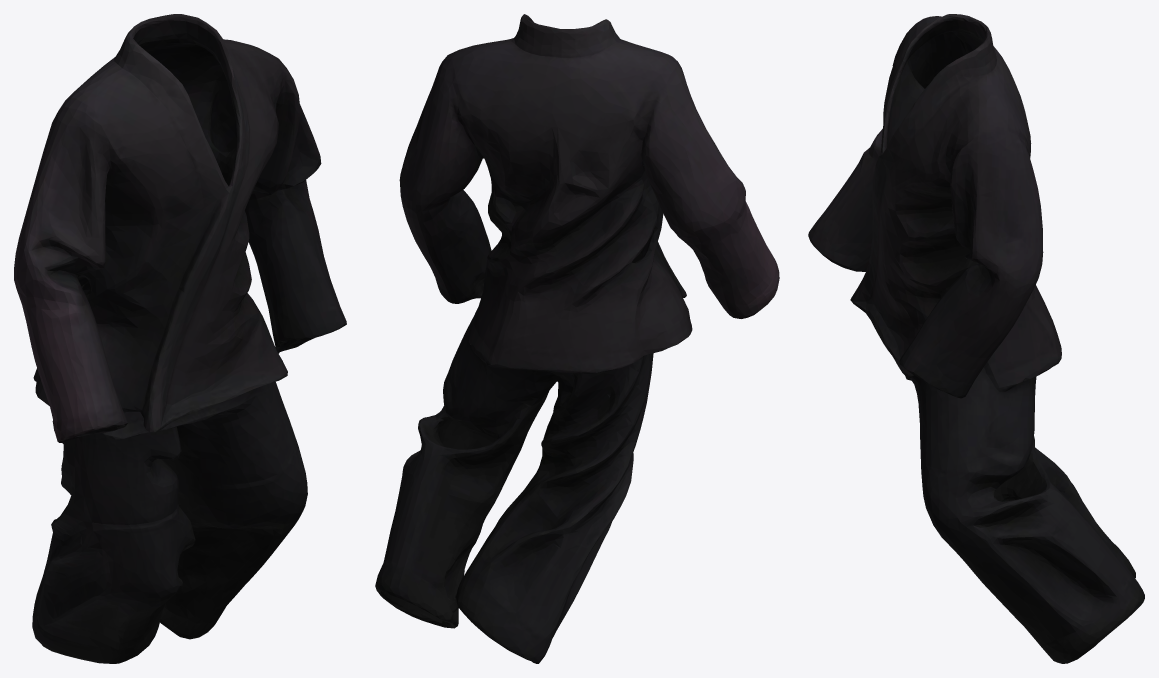
Rendered from bjj-gi.glb.
3 views of the same model, side by side, from view 1: azimuth 30°, elevation 25°; view 2: azimuth 150°, elevation 25°; view 3: azimuth 270°, elevation 25° (orthographic). The views are drawn at different scales.
Parts seen in each view (by area): view 1: geometry_0; view 2: geometry_0; view 3: geometry_0.
Part boxes in pixels (<box>): geometry_0: <box>14,14,346,663</box>; geometry_0: <box>375,14,779,663</box>; geometry_0: <box>808,14,1144,663</box>.
Bounding box in the file's own units: 0.5242 × 0.9992 × 0.5137.
Materials: 1 (1 with a texture image).
